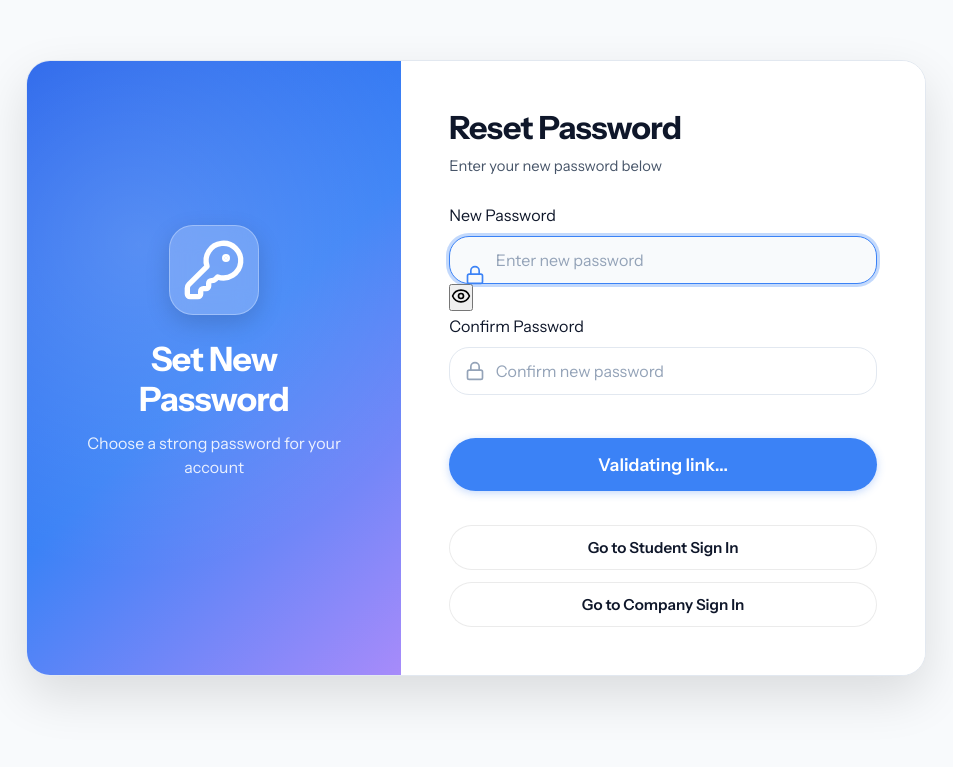
Test: ResetPassword component › validates URL token and submits password reset successfully
This screenshot has width=953, height=767.
Type "SuperSecret123!" into the password field labelled "New Password".
click(663, 260); type("SuperSecret123!")  # box [449,236,877,284]
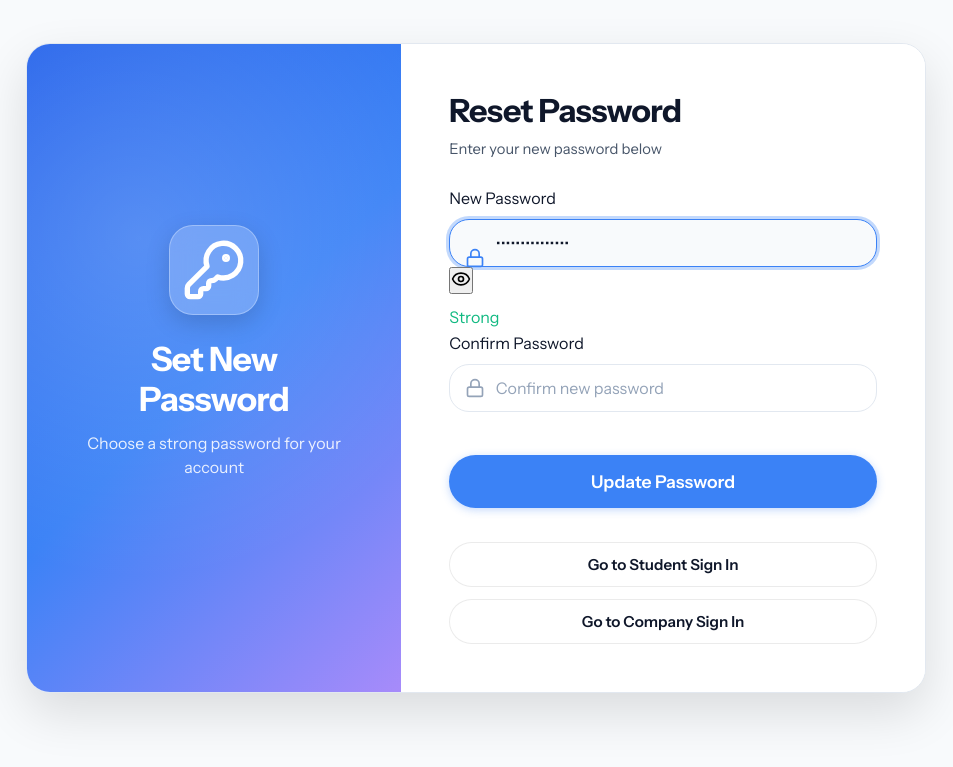
Type "SuperSecret123!" into the password field labelled "Confirm Password".
click(663, 388); type("SuperSecret123!")  # box [449,364,877,412]
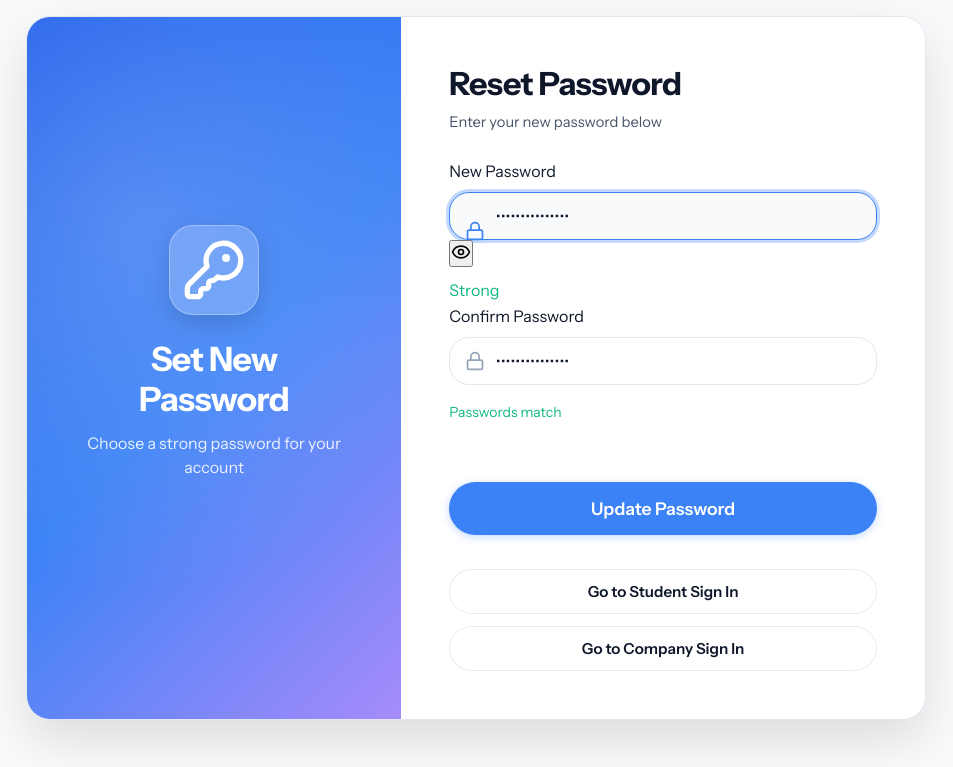
expect the submit button is enabled: met
Click the submit button.
click(663, 508)  # box [449,482,877,535]
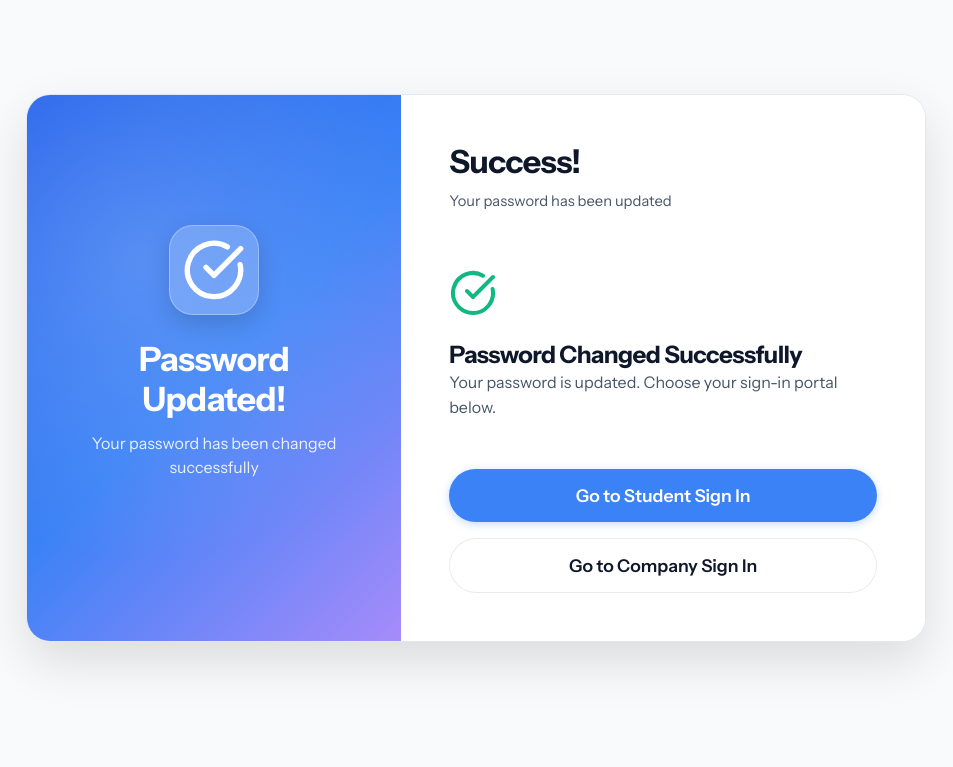
expect the heading "Password Changed Successfully" is shown: met, box [449,340,802,369]
